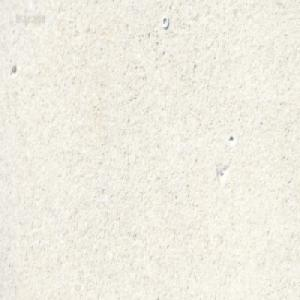Washer: (161, 15, 168, 29)
